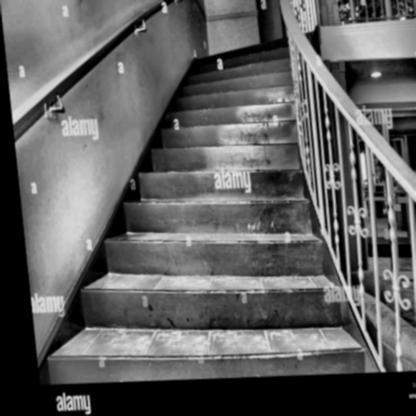stair: (69, 45, 337, 387)
